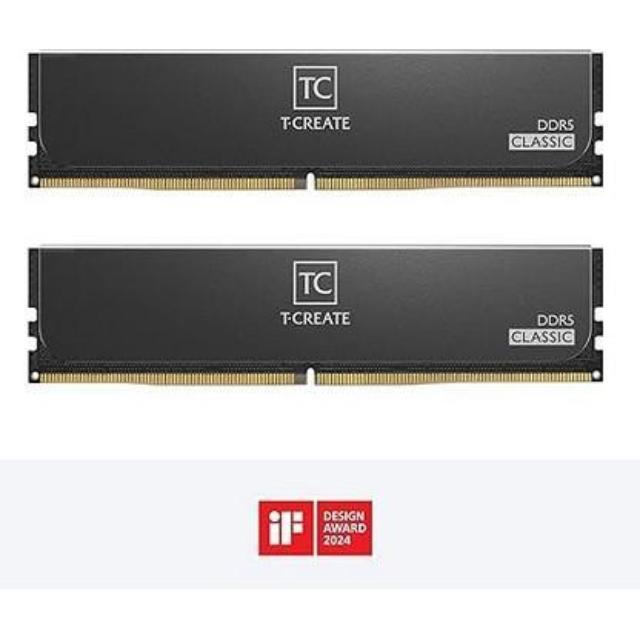RAM: (16, 237, 618, 392), (17, 40, 612, 194)
